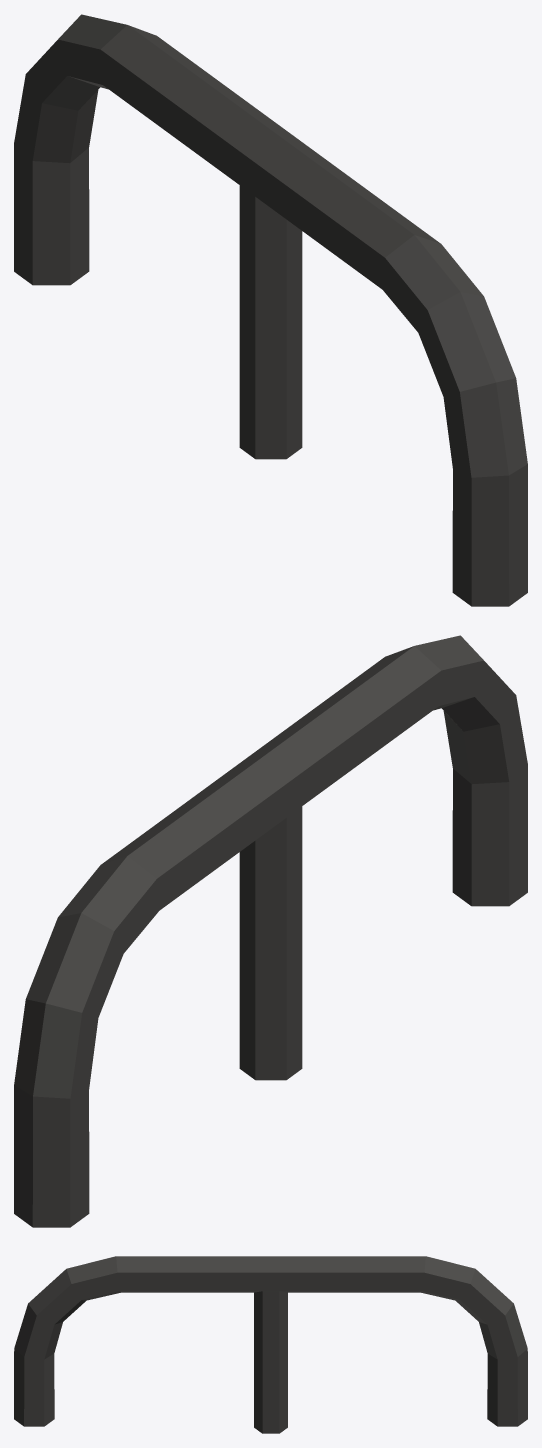
File: SM_Props_City_PlayGround_Skatepark_FlatRail_01.fbx
The picture shows the model from 3 angles, top to bottom: view 1: azimuth 30°, elevation 25°; view 2: azimuth 150°, elevation 25°; view 3: azimuth 270°, elevation 25°; orthographic projection. The views are drawn at different scales.
Visible parts, largest first — view 1: SM_Props_City_PlayGround_Skatepark_FlatRail_01; view 2: SM_Props_City_PlayGround_Skatepark_FlatRail_01; view 3: SM_Props_City_PlayGround_Skatepark_FlatRail_01.
Boxes of the visible parts, left/top/right/bottom form: SM_Props_City_PlayGround_Skatepark_FlatRail_01: left=14, top=14, right=527, bottom=606; SM_Props_City_PlayGround_Skatepark_FlatRail_01: left=14, top=635, right=527, bottom=1227; SM_Props_City_PlayGround_Skatepark_FlatRail_01: left=14, top=1256, right=527, bottom=1433.
Bounding box in the file's own units: 10.39 × 55.95 × 152.
